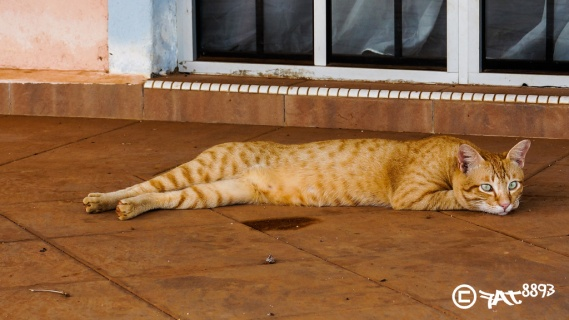Cat: (81, 136, 534, 222)
